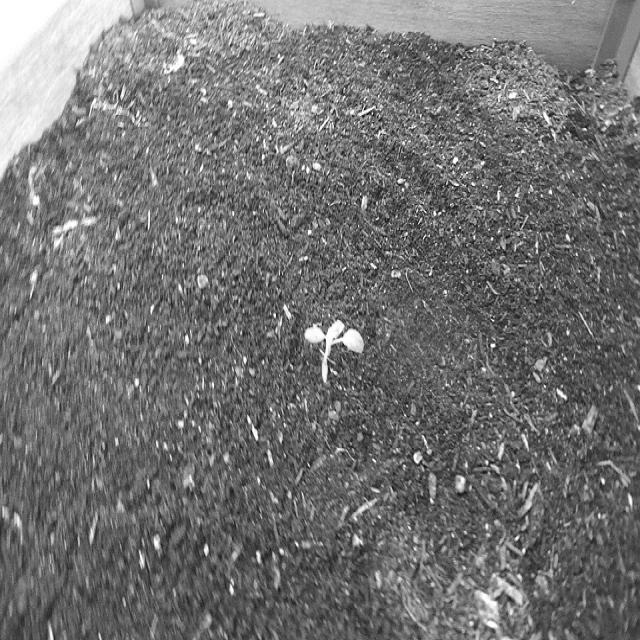Healthy: (299, 302, 370, 402)
